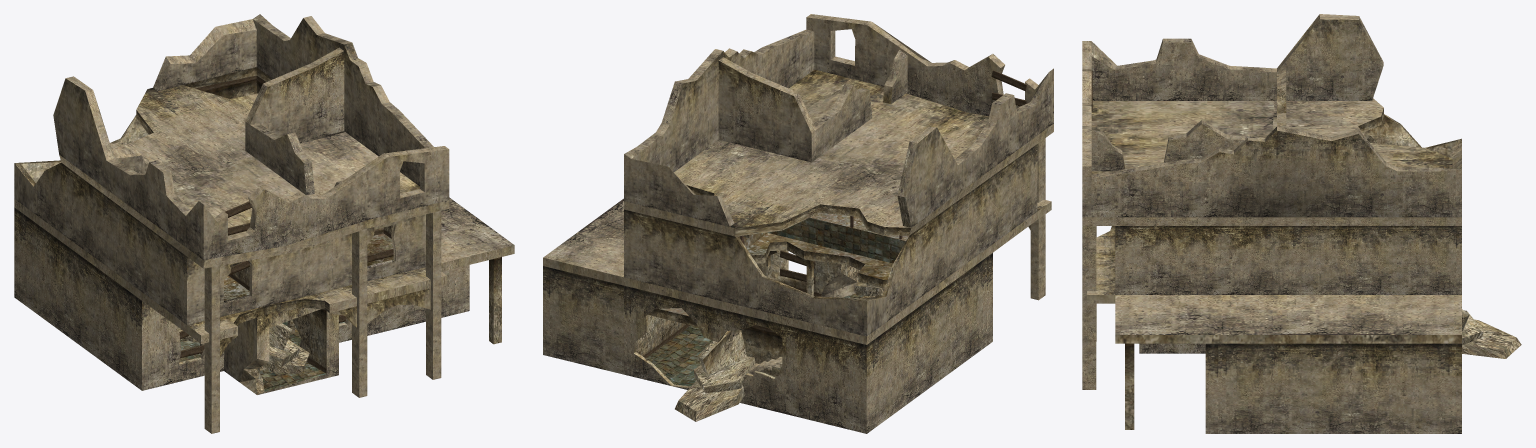
Rendered from MogBld4.glb.
3 views of the same model, side by side, from view 1: azimuth 30°, elevation 25°; view 2: azimuth 150°, elevation 25°; view 3: azimuth 270°, elevation 25° (orthographic).
Visible parts, largest first — view 1: _MogBld4; view 2: _MogBld4; view 3: _MogBld4.
Part boxes in pixels (x1,y1,x2,y2): _MogBld4: (14, 14, 514, 433); _MogBld4: (543, 14, 1053, 433); _MogBld4: (1082, 14, 1521, 433).
Size of the model in its own units: 20 by 15.36 by 23.15.
2 materials, 2 textured.
